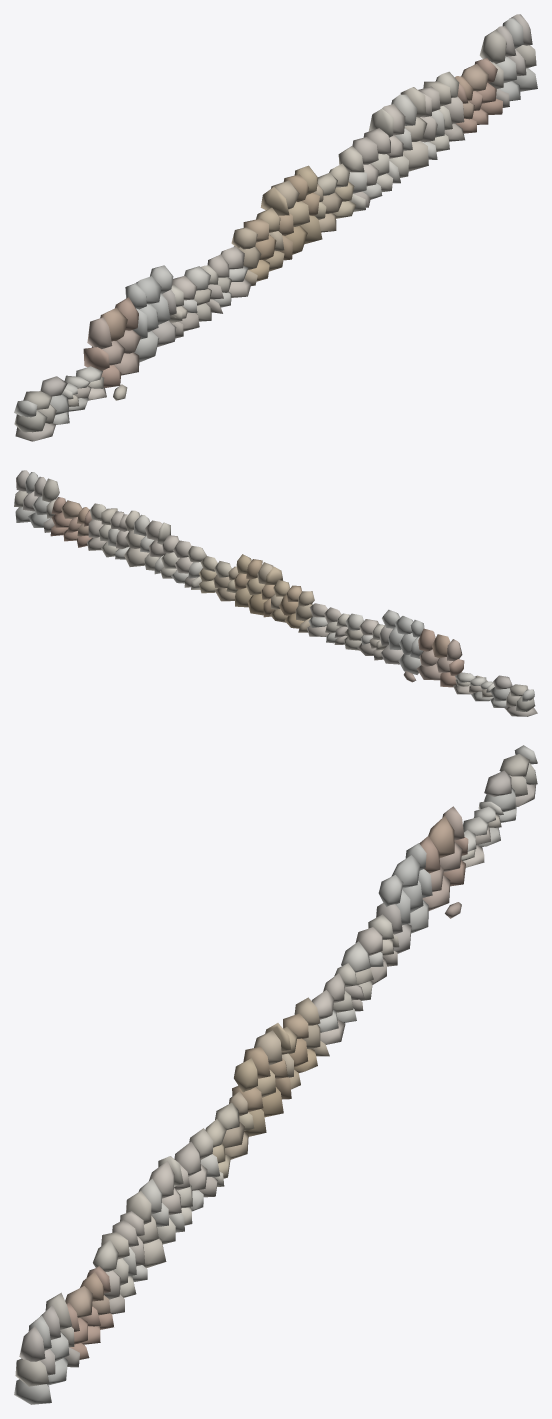
File: farm_-20_-27_near.glb
The picture shows the model from 3 angles, top to bottom: view 1: azimuth 90°, elevation 25°; view 2: azimuth 150°, elevation 25°; view 3: azimuth 270°, elevation 25°; orthographic projection. The views are drawn at different scales.
Parts seen in each view (by area): view 1: geometry_0; view 2: geometry_0; view 3: geometry_0.
Part boxes in pixels (box(x1,y1,x2,y2)): geometry_0: box(14, 14, 537, 441); geometry_0: box(14, 470, 537, 716); geometry_0: box(14, 745, 537, 1404).
Bounding box in the file's own units: 20.49 × 3.52 × 9.17.
